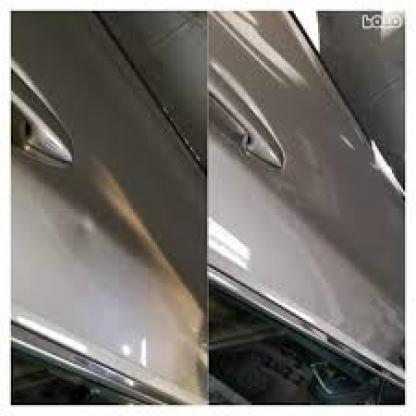dent: (66, 204, 98, 242)
